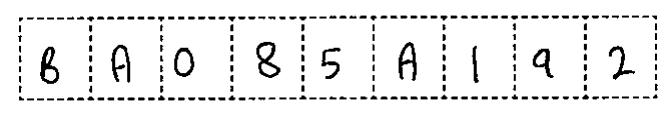0: (168, 42, 200, 81)
1: (462, 40, 490, 88)
2: (602, 41, 640, 82)
5: (316, 42, 347, 87)
8: (248, 35, 288, 86)
9: (526, 46, 562, 86)
A: (103, 39, 139, 88), (392, 35, 426, 86)
B: (37, 41, 63, 88)
